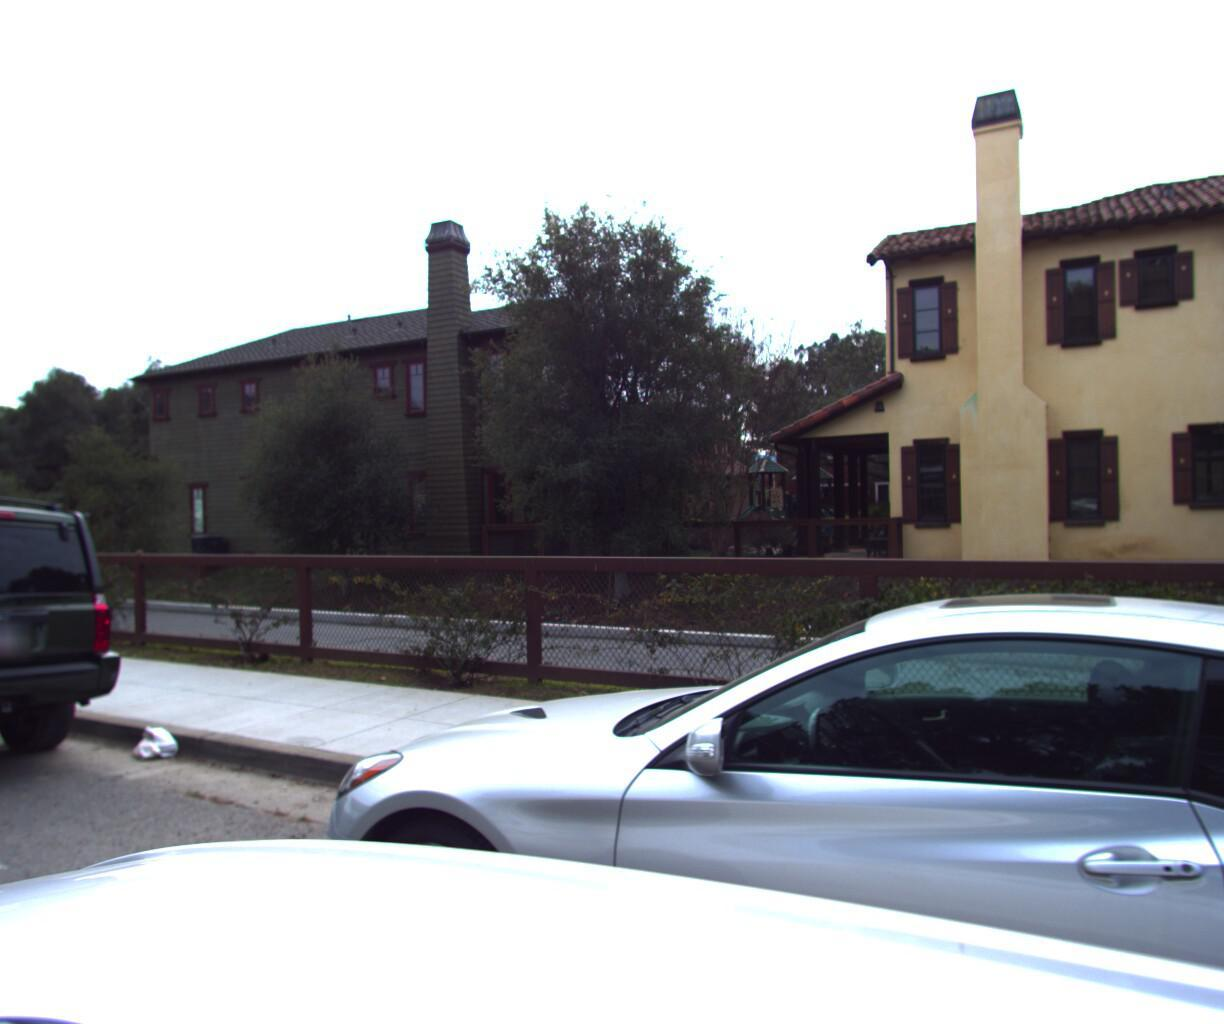car: (234, 563, 1224, 1024), (0, 489, 154, 850)
